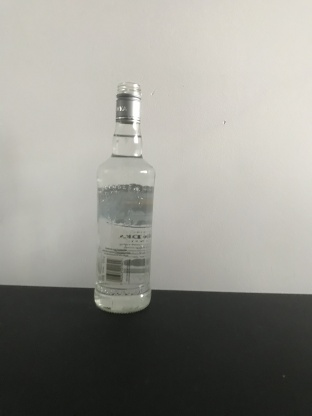nakretka: (114, 79, 143, 125)
